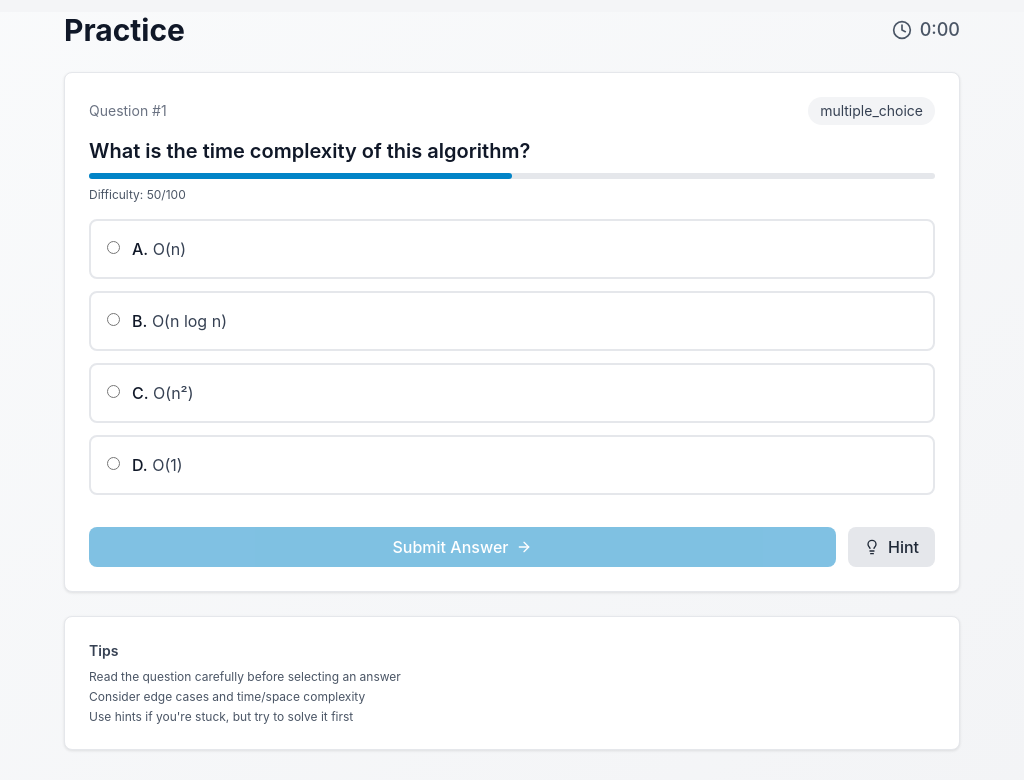
Test: Practice Component › should submit answer and show result
The width and height of the screenshot is (1024, 780).
Expected: the heading "What is the time complexity of this algorithm?" is shown, [89, 139, 530, 163]
Note: Select answer
Click the radio button labelled "B. O(n log n)".
click(114, 320)  # box [107, 313, 120, 326]
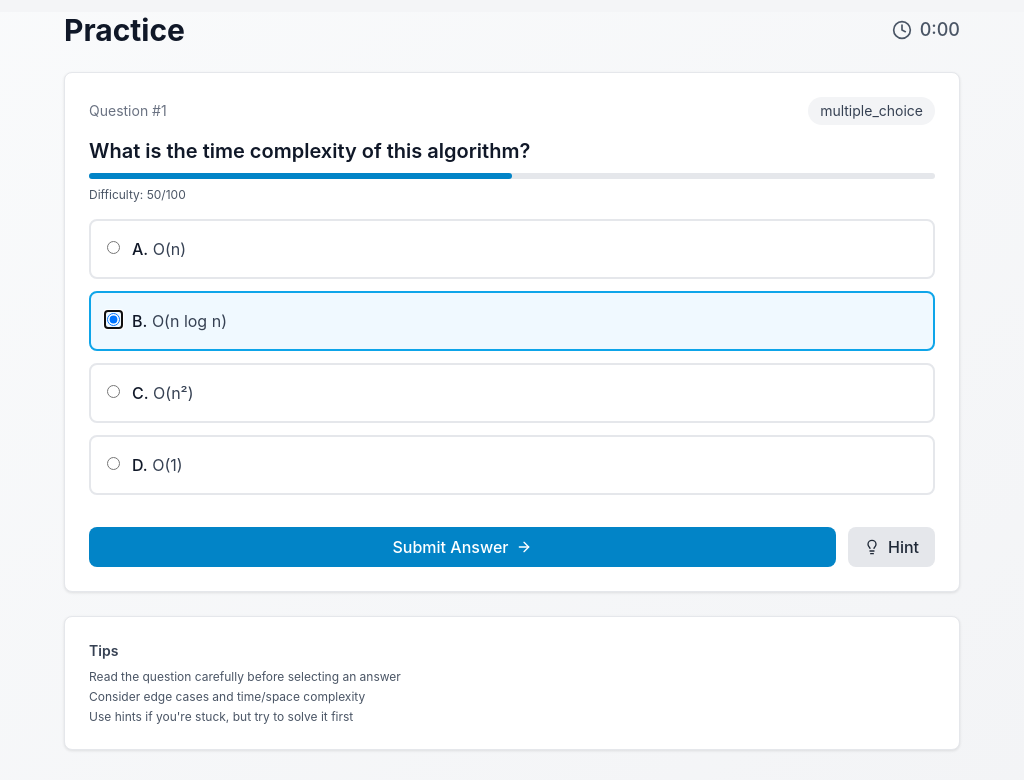
Click the button "Submit Answer".
click(462, 547)  # box [89, 527, 836, 567]
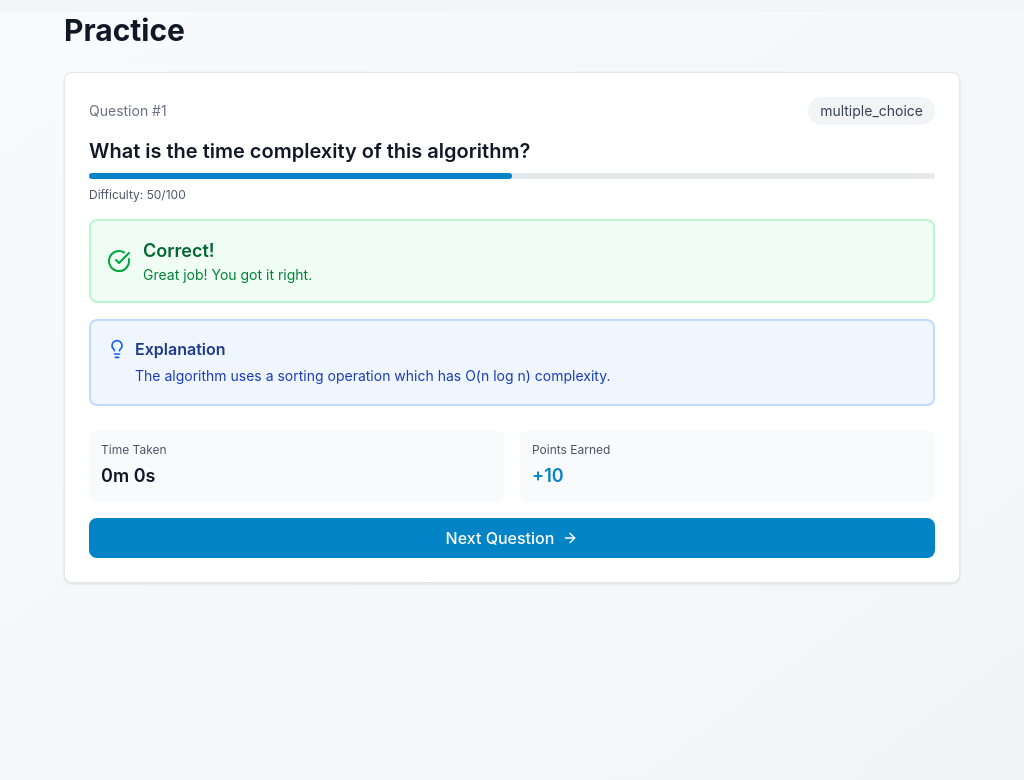
Expected: the text "Correct!" is shown, [143, 240, 215, 261]
Expected: the text "Explanation" is shown, [135, 339, 226, 359]
Expected: the text "The algorithm uses a sorting operation which has O(n log n) complexity." is shown, [135, 365, 610, 388]
